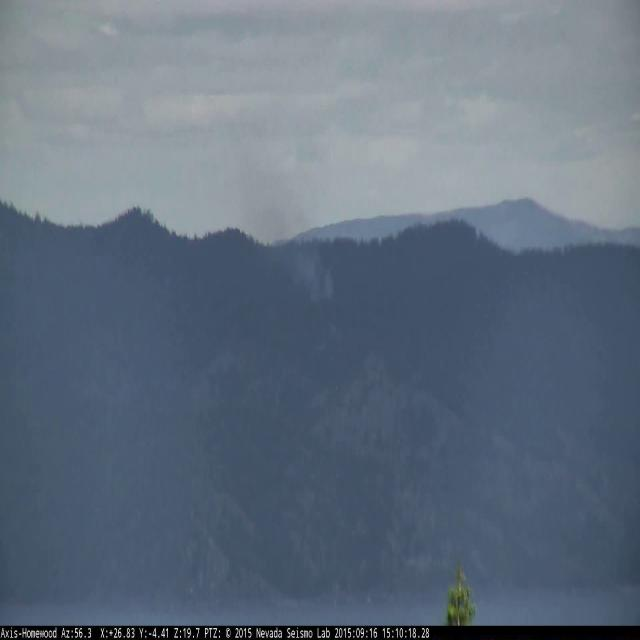smoke: (234, 142, 347, 330)
